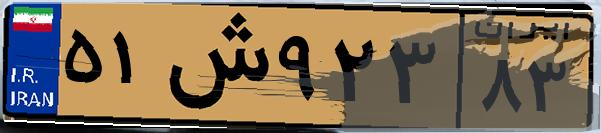1: (110, 28, 158, 98)
2: (330, 28, 385, 110)
3: (385, 28, 445, 110), (525, 38, 570, 115)
5: (57, 26, 110, 100)
8: (475, 38, 525, 113)
9: (270, 28, 330, 110)
ش: (158, 12, 270, 120)
